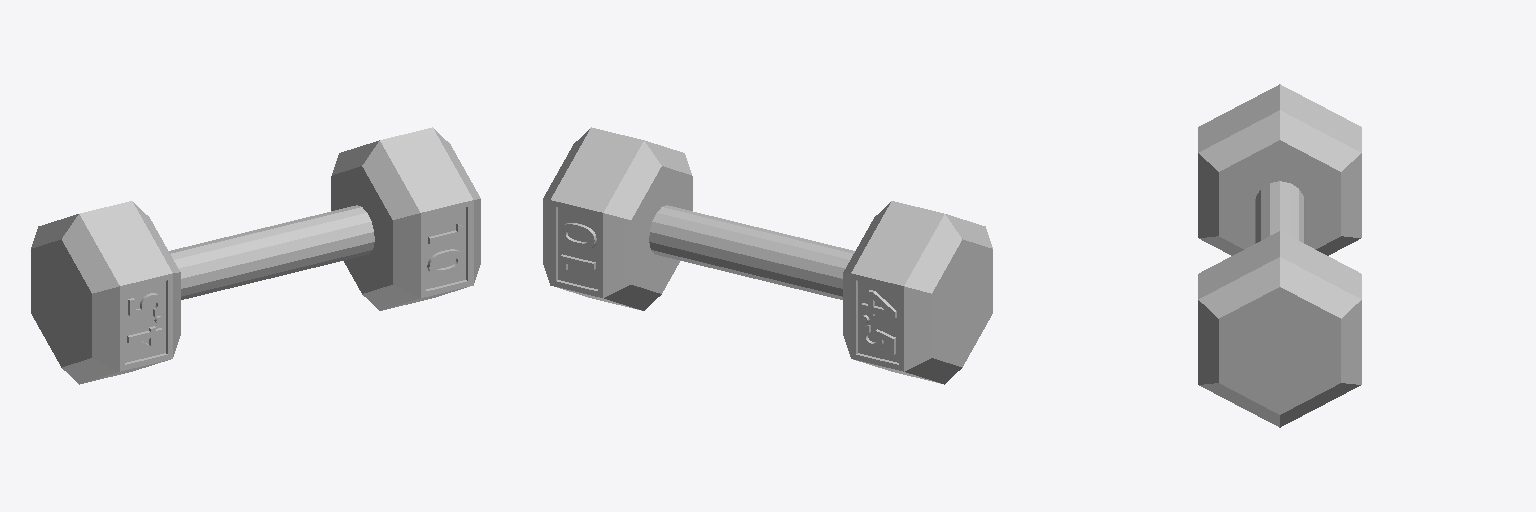
The model's file is Dumbbell_combined.obj.
3 renders of one model, left to right at view 1: azimuth 30°, elevation 25°; view 2: azimuth 150°, elevation 25°; view 3: azimuth 270°, elevation 25°, orthographic.
Parts seen in each view (by area): view 1: Dumbbell10_black; view 2: Dumbbell10_black; view 3: Dumbbell10_black.
Boxes of the visible parts, box(x1,y1,x2,y2) form: Dumbbell10_black: box(31, 127, 480, 384); Dumbbell10_black: box(543, 127, 992, 384); Dumbbell10_black: box(1198, 84, 1361, 427).
Size of the model in its own units: 0.2794 by 0.1173 by 0.1016.